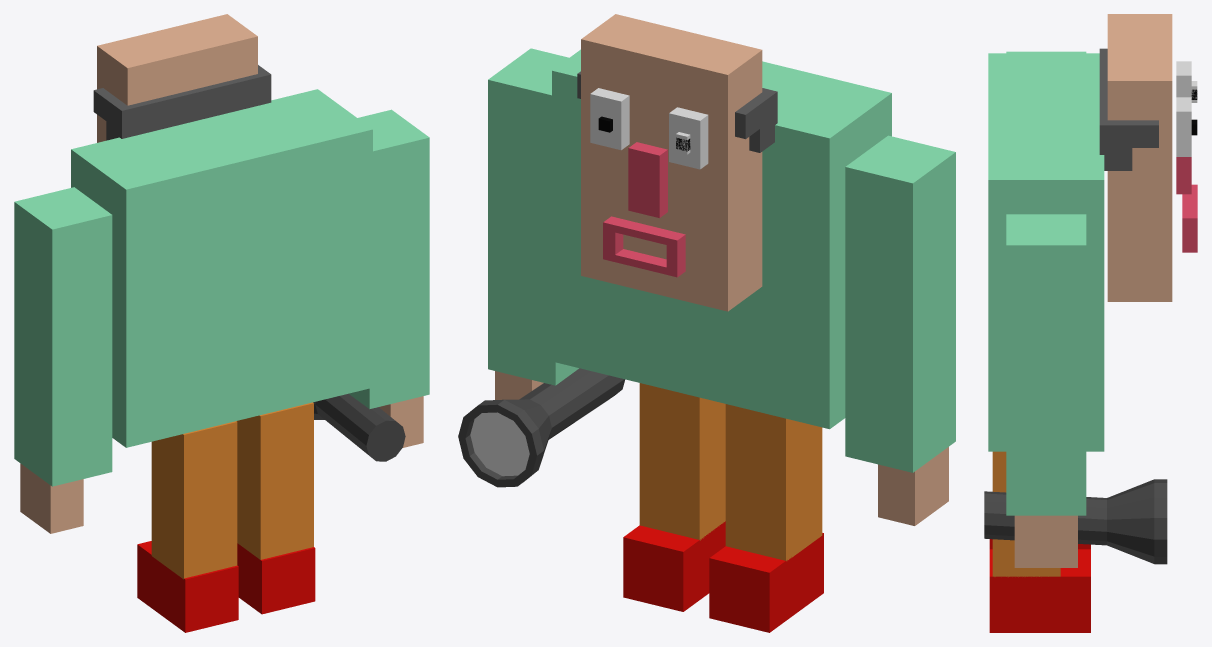
File: B_Chacha.fbx
3 renders of one model, left to right at view 1: azimuth 30°, elevation 25°; view 2: azimuth 150°, elevation 25°; view 3: azimuth 270°, elevation 25°, orthographic. The views are drawn at different scales.
Parts seen in each view (by area): view 1: Cube, Cube.003, Cube.002, Cube.004, Cube.005, Cube.001, Cube.017, Cube.007, Cube.006, Cylinder, Cube.008, Cube.009; view 2: Cube, Cube.001, Cube.003, Cube.002, Cube.004, Cube.005, Cylinder, Cube.007, Cube.006, Cube.008, Cube.013, Cube.010 (+4 smaller); view 3: Cube, Cube.002, Cube.001, Cylinder, Cube.006, Cube.009, Cube.017, Cube.005, Cube.013, Cube.011, Cube.010, Cube.012.
Boxes of the visible parts, bbox=[...] form: Cube: bbox=[71, 89, 372, 447]; Cube.003: bbox=[14, 187, 112, 486]; Cube.002: bbox=[349, 109, 429, 408]; Cube.004: bbox=[151, 421, 237, 579]; Cube.005: bbox=[236, 402, 313, 559]; Cube.001: bbox=[97, 14, 257, 142]; Cube.017: bbox=[93, 65, 271, 140]; Cube.007: bbox=[137, 541, 238, 632]; Cube.006: bbox=[237, 543, 315, 614]; Cylinder: bbox=[313, 393, 405, 461]; Cube.008: bbox=[20, 463, 83, 533]; Cube.009: bbox=[379, 396, 423, 447]; Cube: bbox=[552, 49, 891, 429]; Cube.001: bbox=[581, 14, 762, 311]; Cube.003: bbox=[845, 135, 955, 472]; Cube.002: bbox=[488, 48, 578, 385]; Cube.004: bbox=[725, 404, 822, 561]; Cube.005: bbox=[639, 383, 725, 540]; Cylinder: bbox=[458, 368, 625, 487]; Cube.007: bbox=[709, 533, 823, 632]; Cube.006: bbox=[623, 521, 725, 611]; Cube.008: bbox=[878, 447, 948, 525]; Cube.013: bbox=[603, 216, 685, 277]; Cube.010: bbox=[628, 142, 667, 217]; Cube: bbox=[988, 53, 1104, 451]; Cube.002: bbox=[1006, 214, 1086, 515]; Cube.001: bbox=[1107, 14, 1172, 301]; Cylinder: bbox=[984, 479, 1167, 564]; Cube.006: bbox=[989, 549, 1090, 632]; Cube.009: bbox=[1014, 515, 1077, 567]; Cube.017: bbox=[1099, 48, 1158, 170]; Cube.005: bbox=[992, 451, 1060, 577]; Cube.013: bbox=[1182, 184, 1197, 252]; Cube.011: bbox=[1176, 97, 1191, 156]; Cube.010: bbox=[1176, 157, 1191, 194]; Cube.012: bbox=[1176, 61, 1191, 97].
Size of the model in its own units: 306 by 406 by 142.
